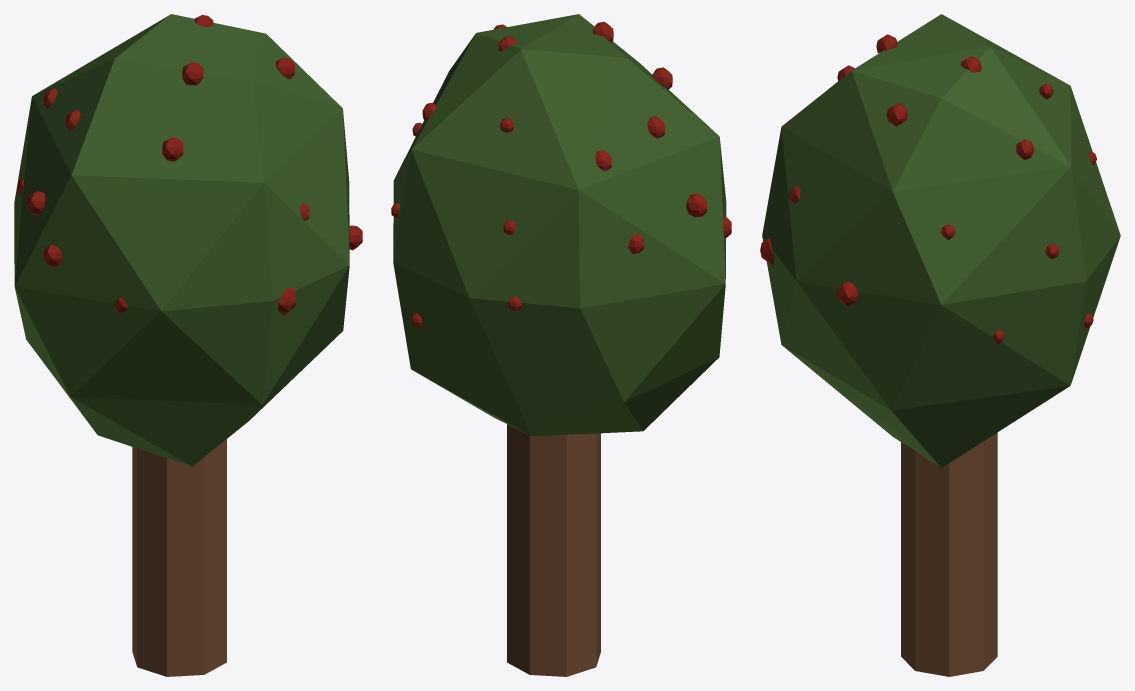
Rendered from Tree_4.fbx.
3 renders of one model, left to right at view 1: azimuth 30°, elevation 25°; view 2: azimuth 150°, elevation 25°; view 3: azimuth 270°, elevation 25°, orthographic.
Parts seen in each view (by area): view 1: Tree_4; view 2: Tree_4; view 3: Tree_4.
Part boxes in pixels (x1,y1,x2,y2): Tree_4: (14,14,362,676); Tree_4: (391,14,731,676); Tree_4: (760,14,1120,676).
Bounding box in the file's own units: 211 × 376 × 200.
